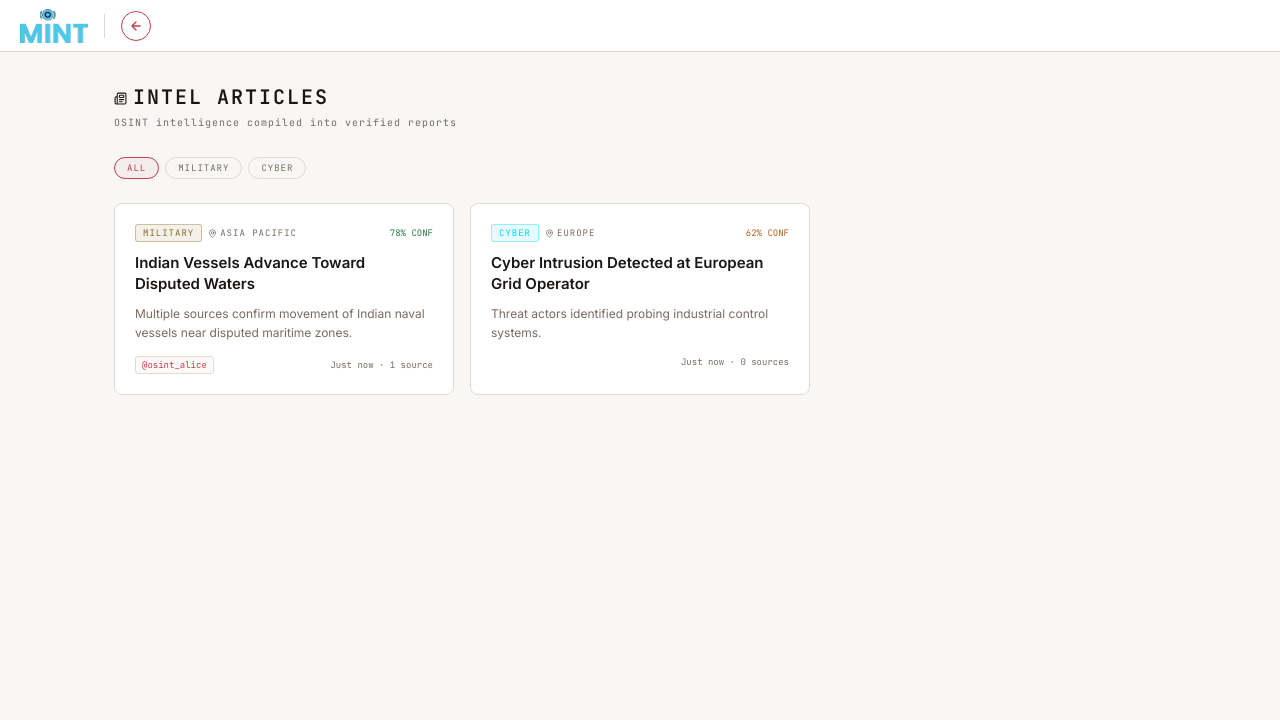
Test case: ArticlesPage › opens article detail modal on card click
What coordinates should you click on to do the following:
click the text "Indian Vessels Advance Toward Disputed Waters"
I would click on:
 (250, 273)
Its box is [135,253,365,293].
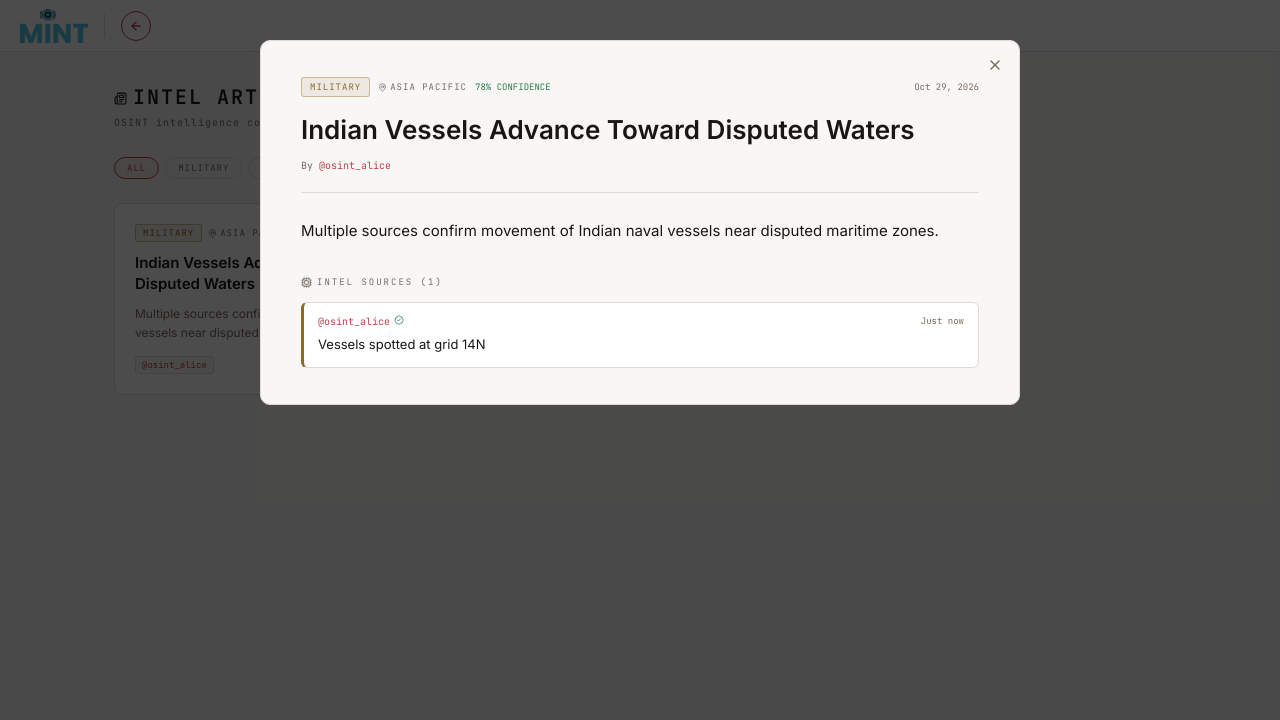
Check: the text "Multiple sources confirm movement of Indian naval vessels near disputed maritime zones." below "INTEL ARTICLES" is shown, box [135,306,425,340]
Check: the text "Intel sources (1)" is shown, box [301,276,443,288]
